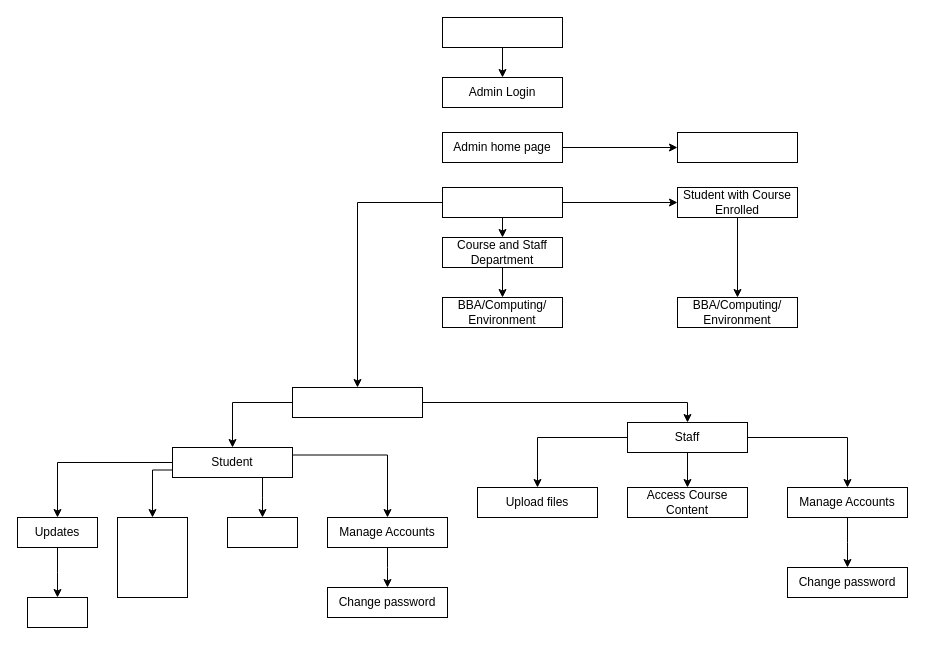
Image size: 925x645. Some labels were removed from this diagram. Here are the shapes that lost their labels. From the top down, the centre of each, then its label:
At point (502, 32): "Home".
At point (737, 147): "Add Module".
At point (502, 202): "Register student/staff".
At point (357, 402): "Student/Staff Login".
At point (262, 532): "Latest Post".
At point (152, 557): "Course content related to respective faculty".
At point (57, 612): "Download files".
